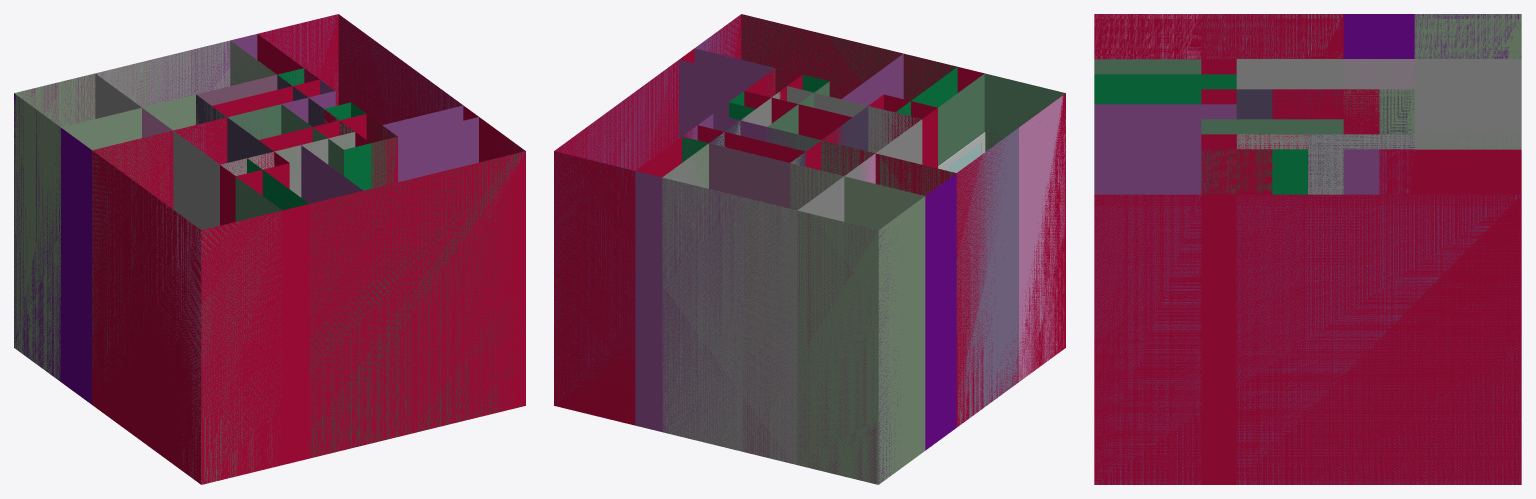
File: all halls 1 group.fbx
3 views of the same model, side by side, from view 1: azimuth 30°, elevation 25°; view 2: azimuth 150°, elevation 25°; view 3: azimuth 270°, elevation 25° (orthographic). The views are drawn at different scales.
Parts seen in each view (by area): view 1: pCube2, pCube3, pCube26, pCube44, pCube20, pCube1, pCube72_over_door_panel1 (×4), pCube36, pCube64, pCube59, pCube4, pCube19 (+26 smaller); view 2: pCube64, pCube19, pCube59, pCube5, pCube61, pCube50___middle_panel_for_far_wall, pCube3, pCube20, pCube45, pCube72_over_door_panel1 (×6), pCube44, pCube2 (+24 smaller); view 3: pCube1, pCube58, pCube55, pCube72_over_door_panel1 (×4), pCube65, pCube3, pCube54, pCube44, pCube20, pCube32, pCube9, pCube29 (+15 smaller).
Part boxes in pixels (x1,y1,x2,y2): pCube2: [201, 151, 525, 484]; pCube3: [92, 150, 201, 484]; pCube26: [309, 152, 523, 457]; pCube44: [14, 93, 91, 404]; pCube20: [14, 94, 60, 380]; pCube1: [338, 14, 525, 162]; pCube72_over_door_panel1 (×4): [61, 34, 478, 221]; pCube36: [201, 212, 282, 483]; pCube64: [95, 41, 230, 107]; pCube59: [149, 14, 338, 105]; pCube4: [92, 117, 227, 209]; pCube19: [14, 41, 230, 127]; pCube64: [662, 177, 797, 464]; pCube19: [662, 178, 878, 484]; pCube59: [554, 152, 742, 448]; pCube5: [554, 151, 635, 425]; pCube61: [743, 198, 878, 484]; pCube50___middle_panel_for_far_wall: [956, 128, 1018, 426]; pCube3: [956, 93, 1065, 427]; pCube20: [878, 196, 925, 484]; pCube45: [1019, 95, 1065, 381]; pCube72_over_door_panel1 (×6): [635, 48, 984, 230]; pCube44: [879, 173, 956, 483]; pCube2: [741, 14, 1034, 146]; pCube1: [1094, 194, 1521, 484]; pCube58: [1236, 194, 1521, 484]; pCube55: [1094, 194, 1201, 484]; pCube72_over_door_panel1 (×4): [1094, 59, 1521, 194]; pCube65: [1236, 59, 1521, 134]; pCube3: [1094, 14, 1343, 59]; pCube54: [1094, 104, 1236, 194]; pCube44: [1343, 14, 1521, 58]; pCube20: [1414, 14, 1521, 58]; pCube32: [1094, 74, 1236, 104]; pCube9: [1201, 149, 1272, 194]; pCube29: [1201, 149, 1307, 194].
Bounding box in the file's own units: 3.66 × 2.74 × 3.66.
